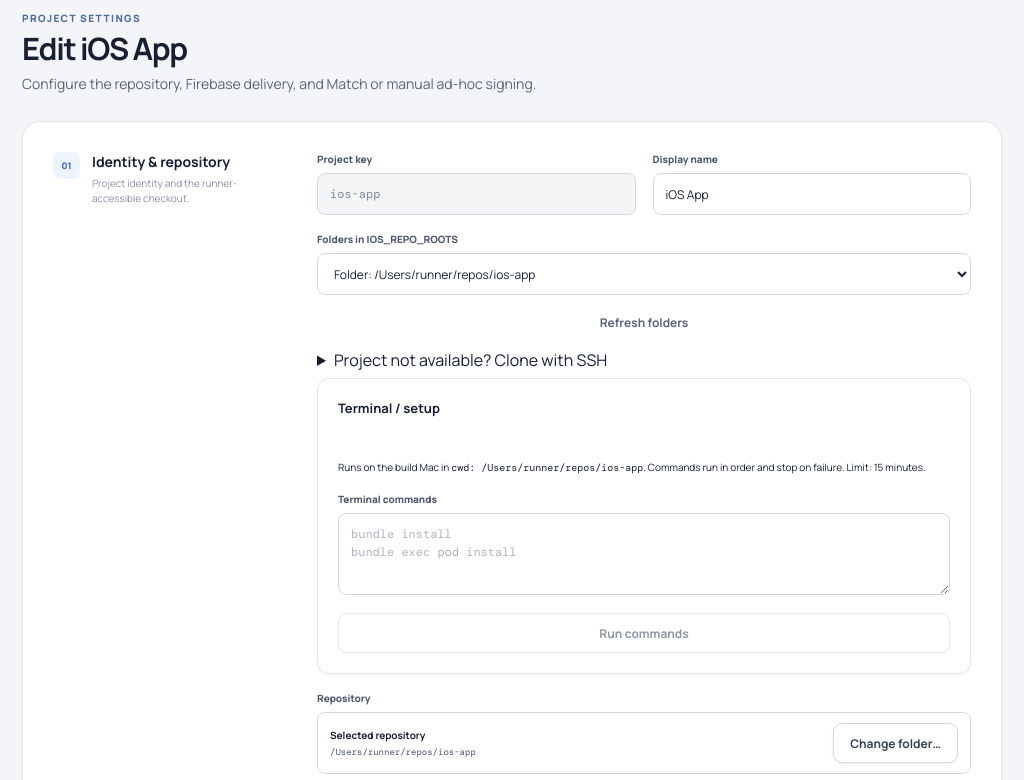
ProjectFormPage repository picker › shows chooser errors without replacing the current path and allows retry
Expected: the text "/Users/runner/repos/ios-app" is shown, x1=330 y1=746 x2=476 y2=758
Click the button "Change folder…": (896, 743) x1=833 y1=723 x2=958 y2=763
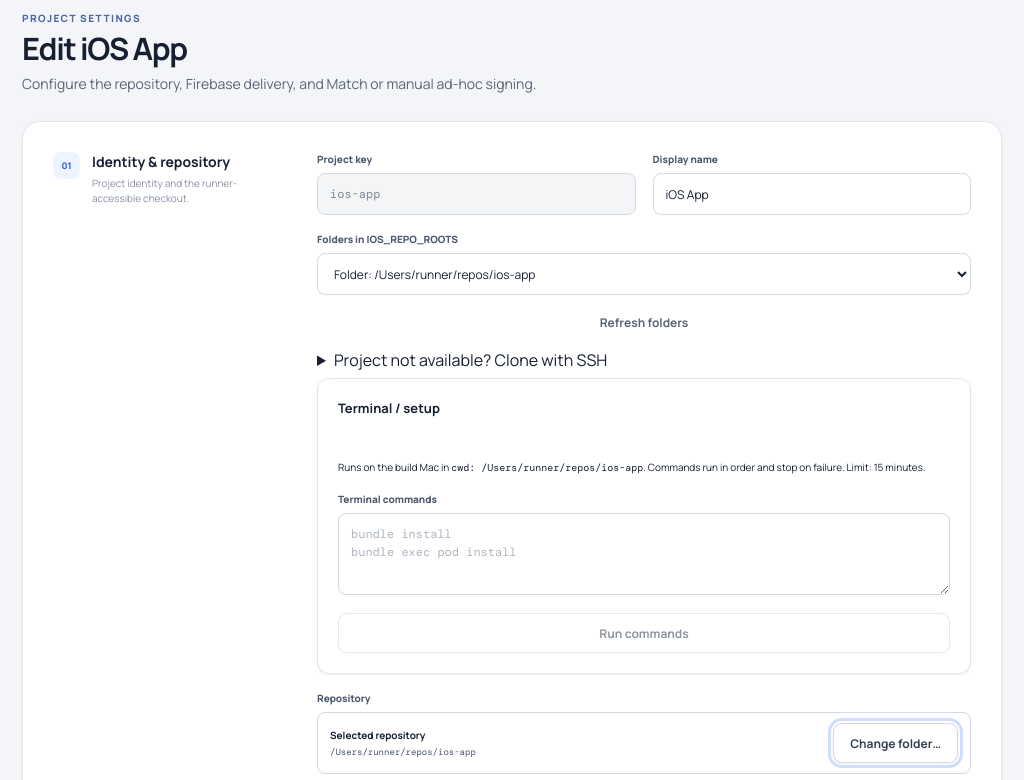
Expected: the text "/Users/runner/repos/ios-app" is shown, x1=330 y1=746 x2=476 y2=758
Click the button "Change folder…": (896, 743) x1=833 y1=723 x2=958 y2=763
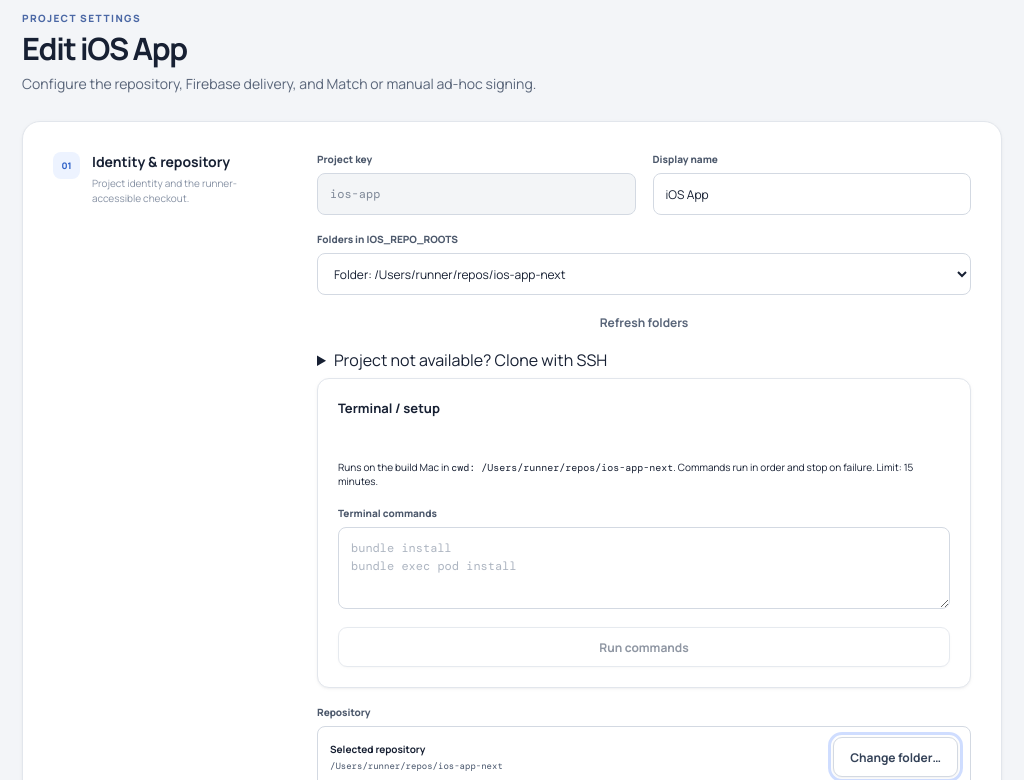
Now the text "/Users/runner/repos/ios-app-next" is shown, box x1=330 y1=760 x2=503 y2=772
